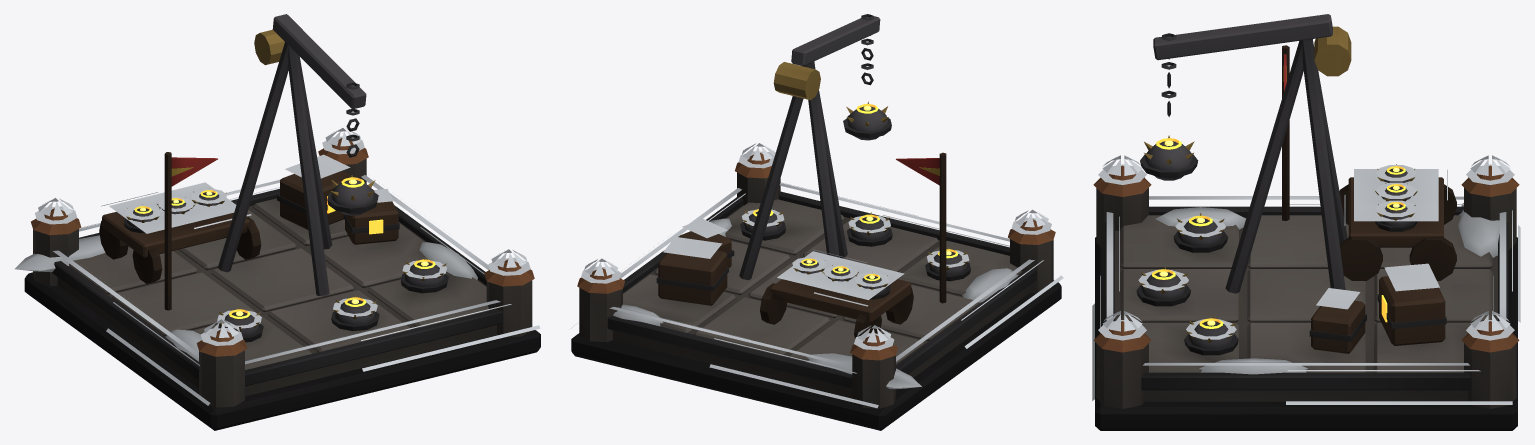
The model's file is nains-8.glb.
3 renders of one model, left to right at view 1: azimuth 30°, elevation 25°; view 2: azimuth 150°, elevation 25°; view 3: azimuth 270°, elevation 25°, orthographic. The views are drawn at different scales.
Visible parts, largest first — view 1: hautroc_8_architecture, Tourelle_peint, hautroc_8_lueur; view 2: hautroc_8_architecture, Tourelle_peint, hautroc_8_lueur; view 3: hautroc_8_architecture, Tourelle_peint, hautroc_8_lueur.
Boxes of the visible parts, bbox=[...] form: hautroc_8_architecture: bbox=[14, 42, 540, 430]; Tourelle_peint: bbox=[254, 14, 378, 215]; hautroc_8_lueur: bbox=[134, 190, 435, 318]; hautroc_8_architecture: bbox=[571, 61, 1063, 430]; Tourelle_peint: bbox=[773, 14, 891, 140]; hautroc_8_lueur: bbox=[752, 209, 958, 281]; hautroc_8_architecture: bbox=[1092, 39, 1520, 430]; Tourelle_peint: bbox=[1140, 14, 1351, 180]; hautroc_8_lueur: bbox=[1152, 166, 1405, 328].
Size of the model in its own units: 0.8655 by 0.692 by 0.811.
